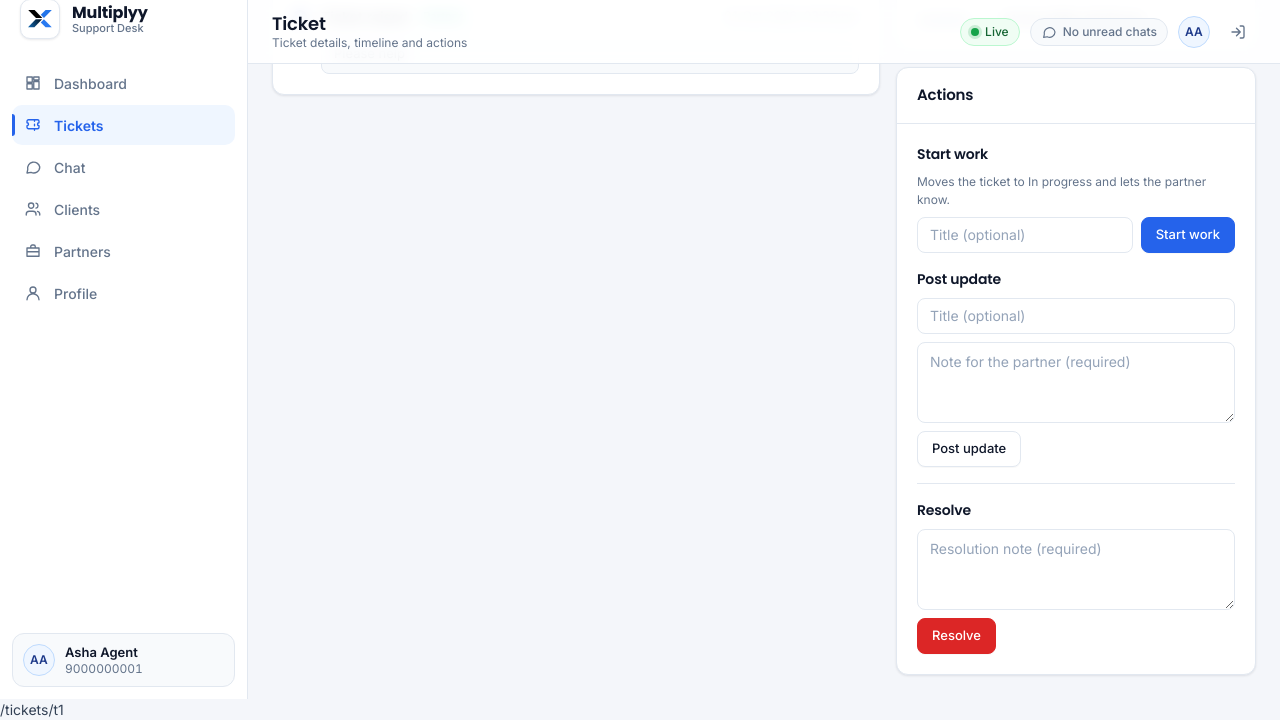
Test: ticket detail › on 409 shows the message, refetches, and keeps the typed note
(page scrolled)
In the text box named "Update note": [1076, 382] box [917,342,1235,422], type "Working on it"
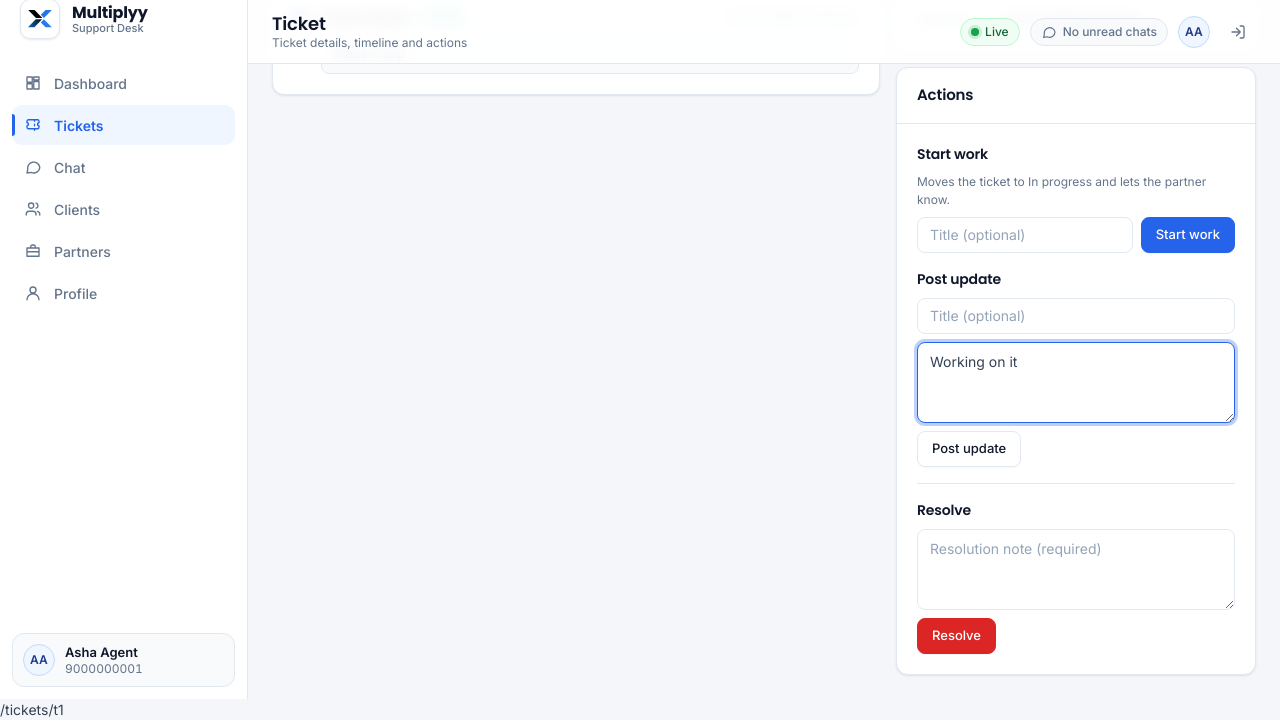
Click the button "Post update": [969, 448] box [917,430,1021,466]
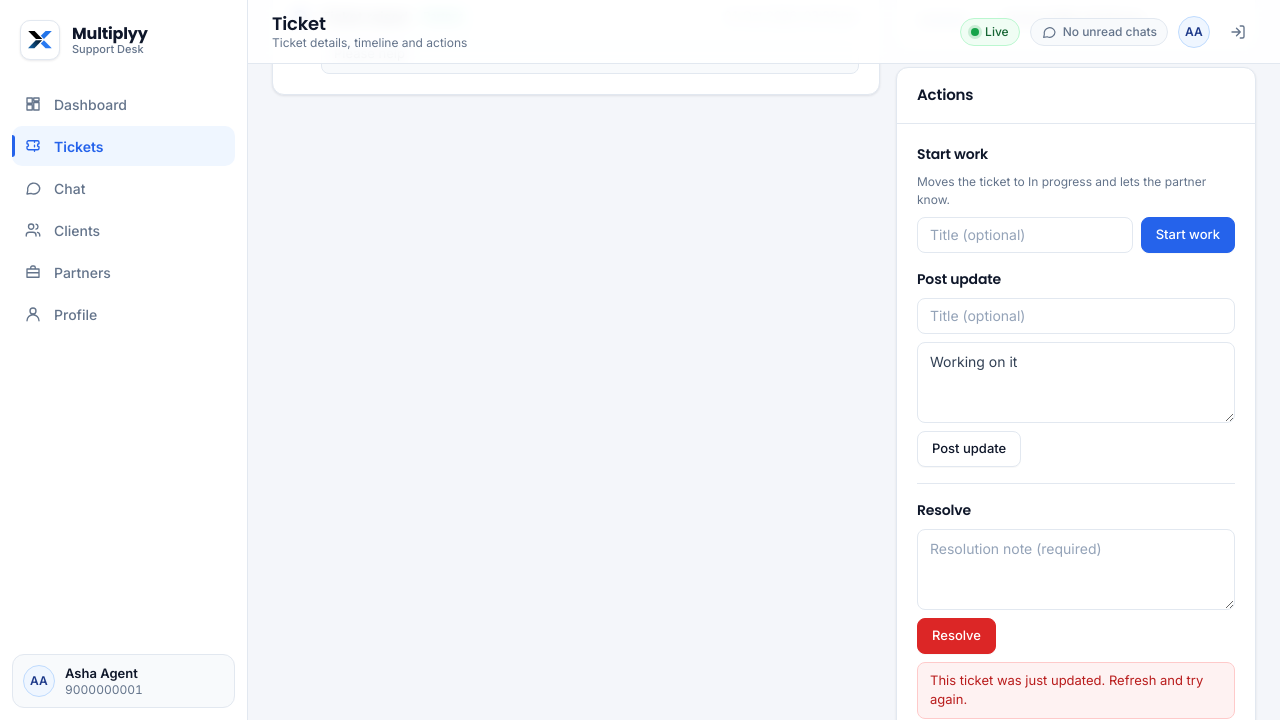
Now the message reads "This ticket was just updated. Refresh and try again.", box [930,672,1203,707]
